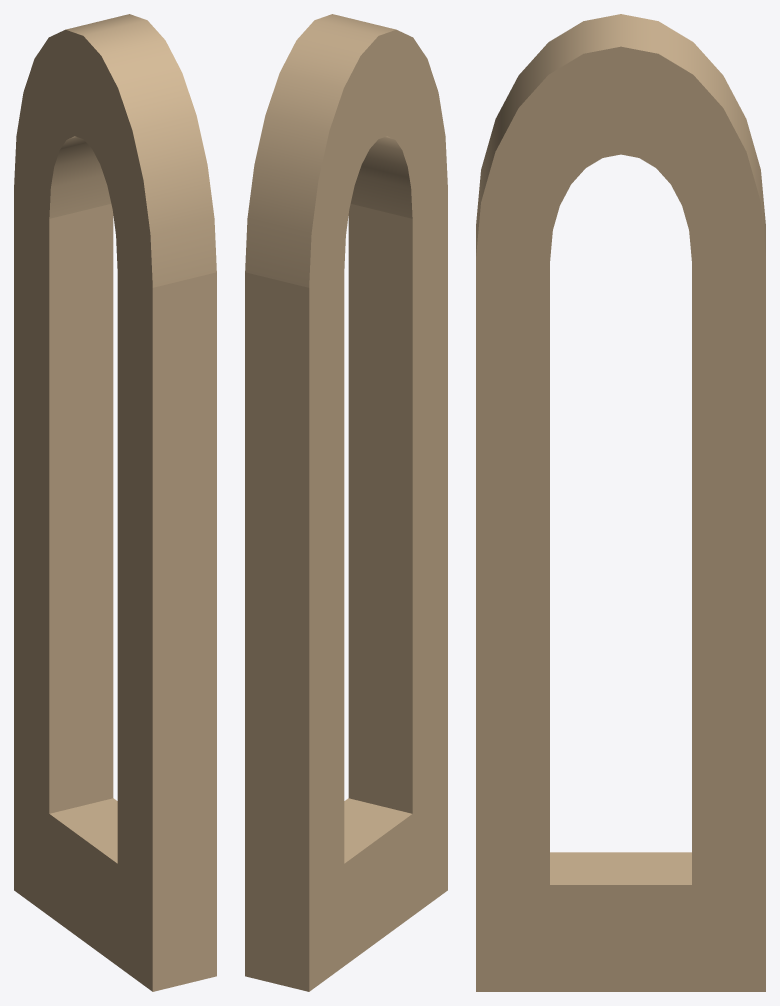
Rendered from Building Frame 18.fbx.
The picture shows the model from 3 angles, left to right: view 1: azimuth 30°, elevation 25°; view 2: azimuth 150°, elevation 25°; view 3: azimuth 270°, elevation 25°; orthographic projection. The views are drawn at different scales.
Visible parts, largest first — view 1: Building Frame 18; view 2: Building Frame 18; view 3: Building Frame 18.
Boxes of the visible parts, x1,y1,x2,y2 form: Building Frame 18: [14, 14, 216, 991]; Building Frame 18: [245, 14, 447, 991]; Building Frame 18: [476, 14, 765, 991].
Size of the model in its own units: 0.05 by 0.675 by 0.1875.
